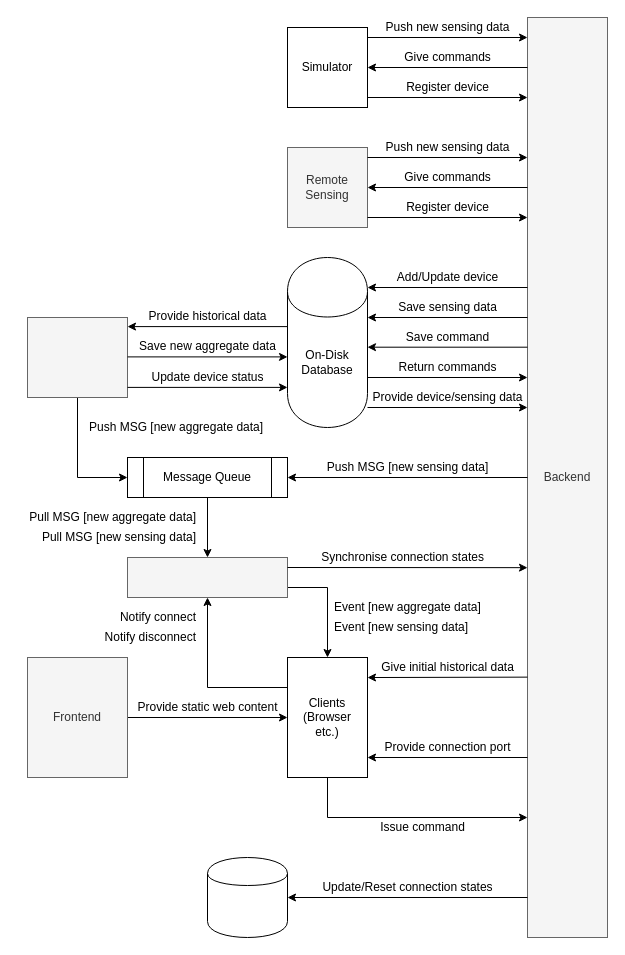
The diagram is 625 pixels wide and 955 high, and some of its shapes have lost their labels. The shapes that lost their labels are listed below. From the top down, each one's centre as x and y in pixels, then its label:
point 77,357: Governor
point 207,577: Real-time
point 247,897: In-Memory Database
